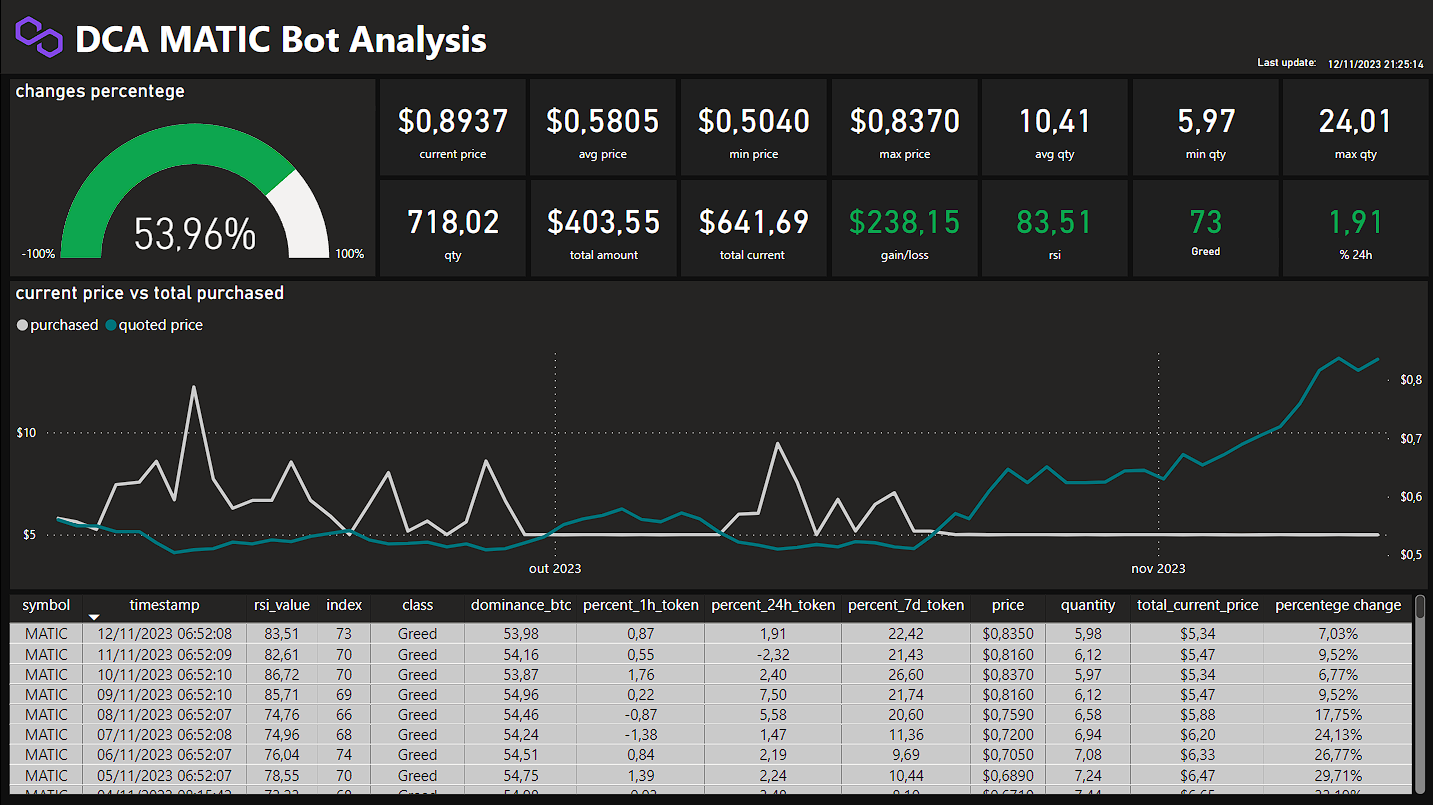

This screenshot's page, from the dashboard's own definition file:
{"tool":"powerbi","page":{"name":"Polygon","canvas":[1280,720],"ordinal":0},"visuals":[{"type":"card","fields":{"Values":["dca._m_last_index"]},"box":[1010.6,161.6,130,86],"z":0},{"type":"tableEx","fields":{"Values":["dca.symbol","dca.timestamp","Sum(dca.rsi_value)","Sum(dca.index_current)","dca.index_class","Sum(dca.dominance_btc_global)","Sum(dca.percent_1h_token)","Sum(dca.percent_24h_token)","Sum(dca.percent_7d_token)","Sum(dca.price)","Sum(dca.quantity)","dca.total_current_price"]},"box":[2.6,526,1274,187.9],"z":1000},{"type":"gauge","title":"changes percentege","fields":{"Y":["dca.change_percentege"],"MinValue":["dca.min"],"MaxValue":["dca.max"]},"box":[8.8,71.1,325.8,176.5],"z":2000},{"type":"card","fields":{"Values":["Avg(dca.current_price)"]},"box":[338.9,71.1,130,86],"z":3000},{"type":"card","fields":{"Values":["Avg(dca.price)"]},"box":[473.3,71.1,130,86],"z":4000},{"type":"card","fields":{"Values":["Max(dca.price)"]},"box":[742,71.1,130,86],"z":5000},{"type":"card","fields":{"Values":["Min(dca.price)"]},"box":[607.6,71.1,130,86],"z":6000},{"type":"card","fields":{"Values":["Sum(dca.quantity)"]},"box":[338.9,161.6,130,86],"z":7000},{"type":"card","fields":{"Values":["Sum(dca.amount)"]},"box":[473.4,161.6,130,86],"z":8000},{"type":"shape","box":[0,0,1280,66.7],"z":9000},{"type":"lineChart","title":"current price vs total purchased","fields":{"Y":["Sum(dca.amount)"],"Category":["dca.timestamp"],"Y2":["Sum(dca.price)"]},"box":[8.8,252,1265.3,274.8],"z":10000},{"type":"card","fields":{"Values":["Avg(dca.quantity)"]},"box":[876.4,71.1,130,86],"z":11000},{"type":"card","fields":{"Values":["Min(dca.quantity)"]},"box":[1010.8,71.1,130,86],"z":12000},{"type":"card","fields":{"Values":["Max(dca.quantity)"]},"box":[1145.1,71.1,130,86],"z":13000},{"type":"card","fields":{"Values":["dca.total_current_price"]},"box":[607.6,161.6,130,86],"z":14000},{"type":"card","fields":{"Values":["dca.gain_loss"]},"box":[742,161.6,130,86],"z":15000},{"type":"card","fields":{"Values":["dca._m_last_rsi"]},"box":[876.3,161.6,130,86],"z":16000},{"type":"card","fields":{"Values":["dca._m_last_change"]},"box":[1145,161.6,130,86],"z":17000},{"type":"textbox","box":[61.5,7,490,54.4],"z":18000},{"type":"image","box":[8.8,4.4,51.8,58],"z":19000},{"type":"card","fields":{"Values":["dca.text_index"]},"box":[1010.6,213.4,130,26.3],"z":20000},{"type":"card","fields":{"Values":["Min(update.date_now)"]},"box":[1174,45.7,106.2,24.6],"z":21000},{"type":"textbox","box":[1116.9,41.3,71.1,32.5],"z":22000}]}

Visuals, with their boxes in screenshot pixels (x1, y1, x2, y2), scaled from the page's 1280x720 canvas onto the 1433x805 screenshot:
card - dca._m_last_index: box(1131, 181, 1277, 277)
tableEx - dca.symbol x dca.timestamp: box(3, 588, 1429, 798)
"changes percentege" gauge: box(10, 79, 375, 277)
card - Avg(dca.current_price): box(379, 79, 525, 176)
card - Avg(dca.price): box(530, 79, 675, 176)
card - Max(dca.price): box(831, 79, 976, 176)
card - Min(dca.price): box(680, 79, 826, 176)
card - Sum(dca.quantity): box(379, 181, 525, 277)
card - Sum(dca.amount): box(530, 181, 676, 277)
shape: box(0, 0, 1432, 75)
"current price vs total purchased" lineChart: box(10, 282, 1426, 589)
card - Avg(dca.quantity): box(981, 79, 1127, 176)
card - Min(dca.quantity): box(1132, 79, 1277, 176)
card - Max(dca.quantity): box(1282, 79, 1428, 176)
card - dca.total_current_price: box(680, 181, 826, 277)
card - dca.gain_loss: box(831, 181, 976, 277)
card - dca._m_last_rsi: box(981, 181, 1127, 277)
card - dca._m_last_change: box(1282, 181, 1427, 277)
textbox: box(69, 8, 617, 69)
image: box(10, 5, 68, 70)
card - dca.text_index: box(1131, 239, 1277, 268)
card - Min(update.date_now): box(1314, 51, 1432, 79)
textbox: box(1250, 46, 1330, 83)
